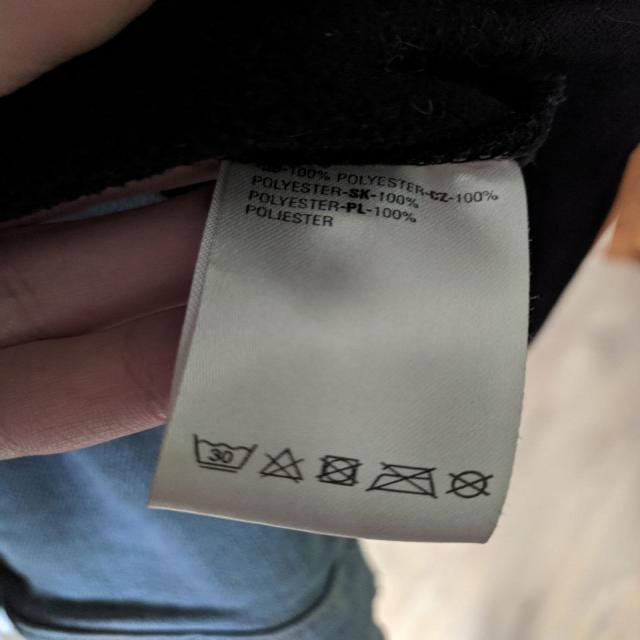30C: (188, 425, 256, 474)
DN_bleach: (259, 443, 305, 487)
DN_dry_clean: (447, 465, 494, 503)
DN_iron: (368, 463, 439, 500)
DN_tumble_dry: (314, 450, 361, 492)
